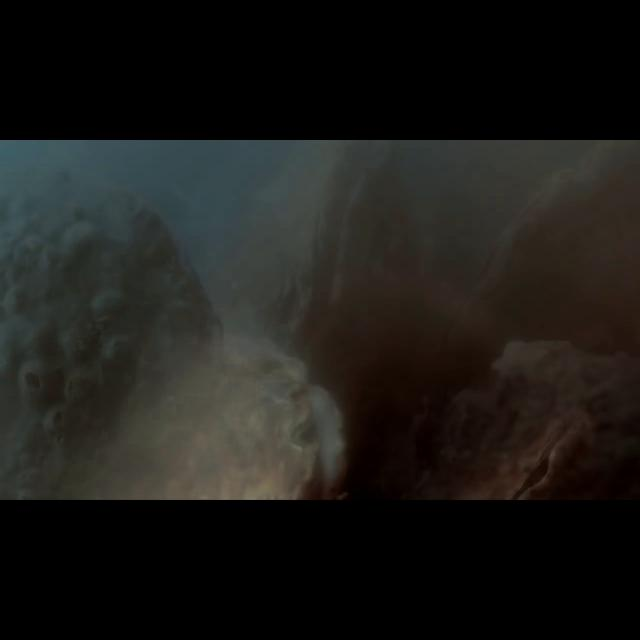Oyster-Closed: (0, 168, 223, 500), (93, 338, 322, 500), (416, 340, 640, 500)
Oyster-Open: (487, 406, 590, 497)
